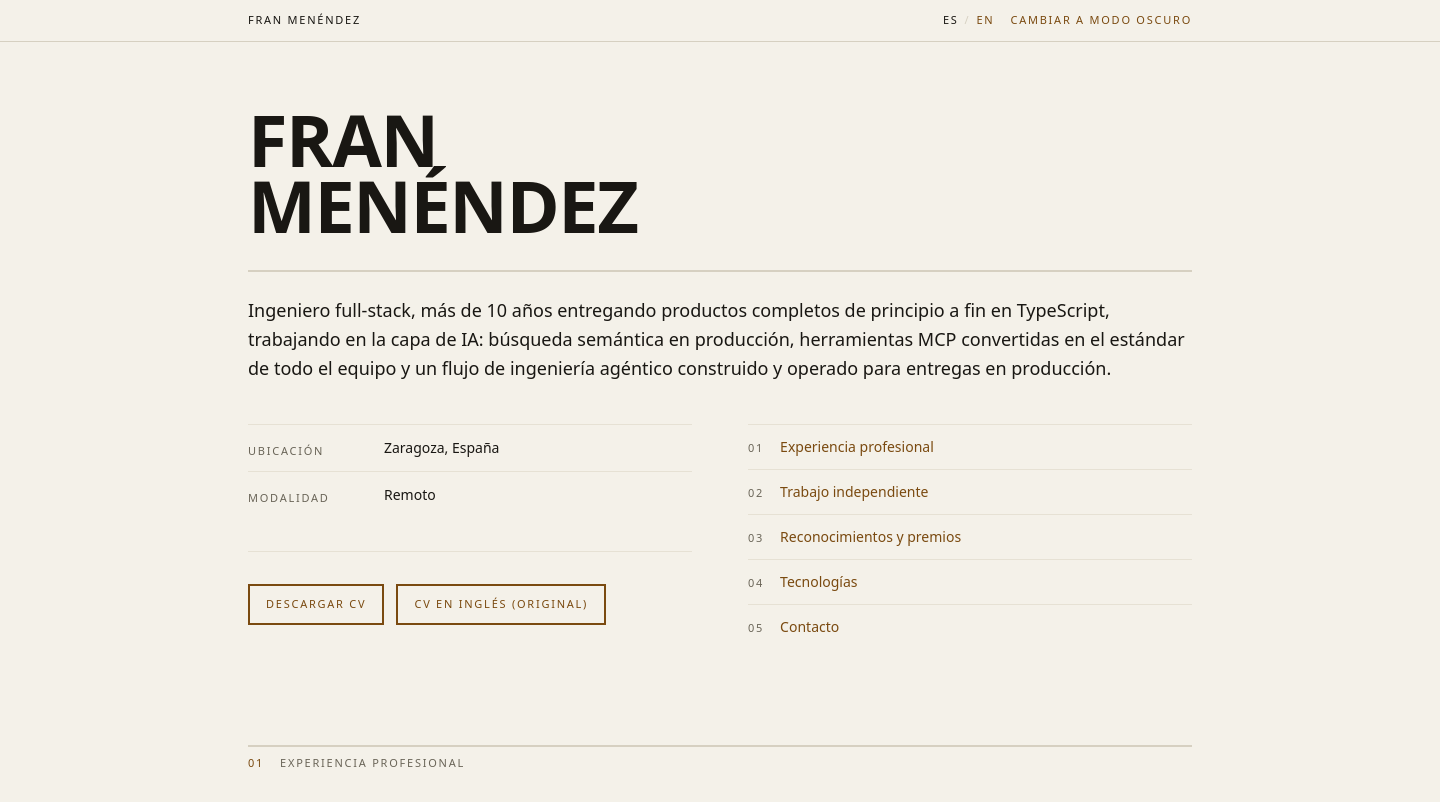
Test case: Spanish edition › the top of the record › says what the theme control will do, in the edition’s own words
Click the button "Cambiar a modo oscuro" at {"x": 1101, "y": 20}, box left=1010, top=12, right=1192, bottom=28
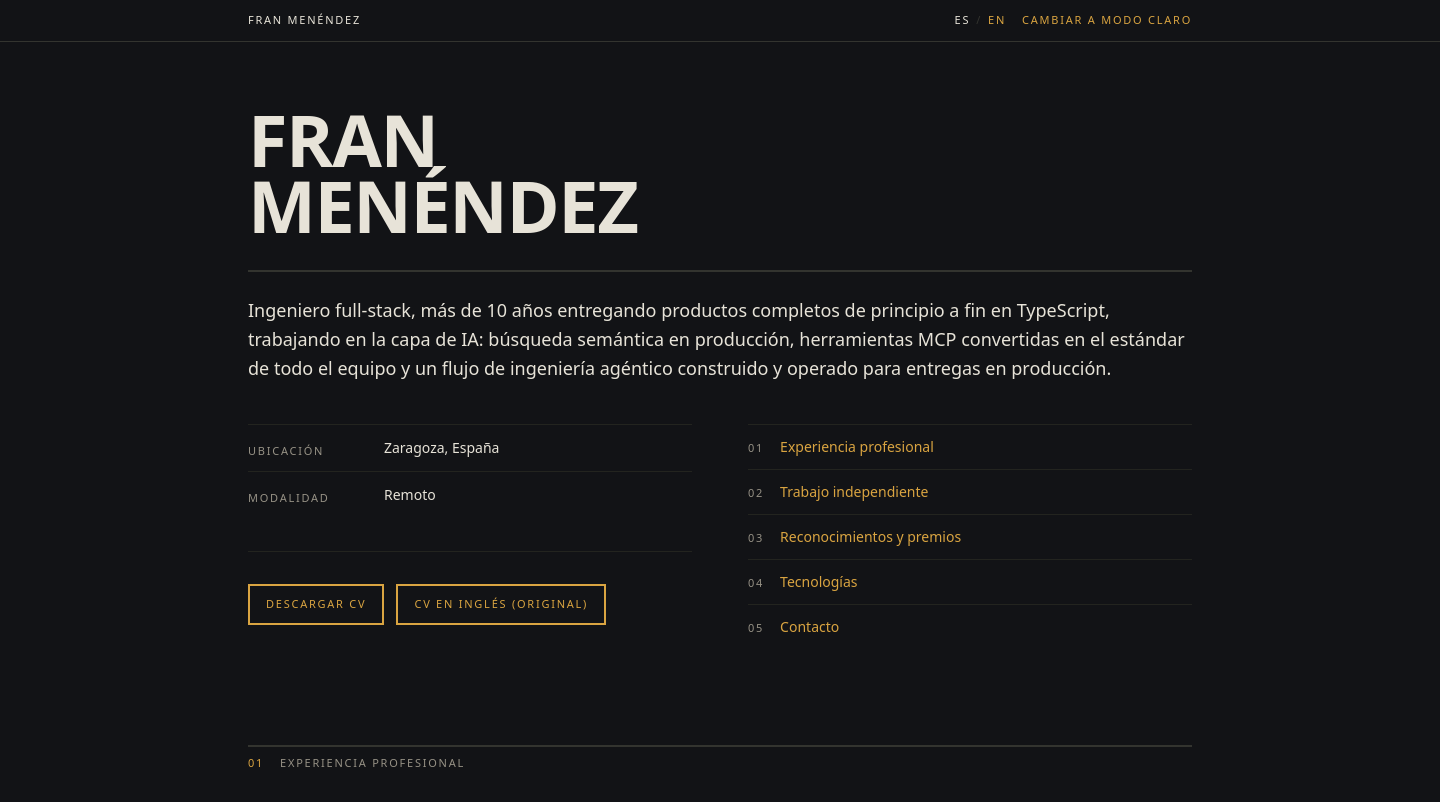
expect the button "Cambiar a modo claro" is shown: met, box left=1022, top=12, right=1192, bottom=28
